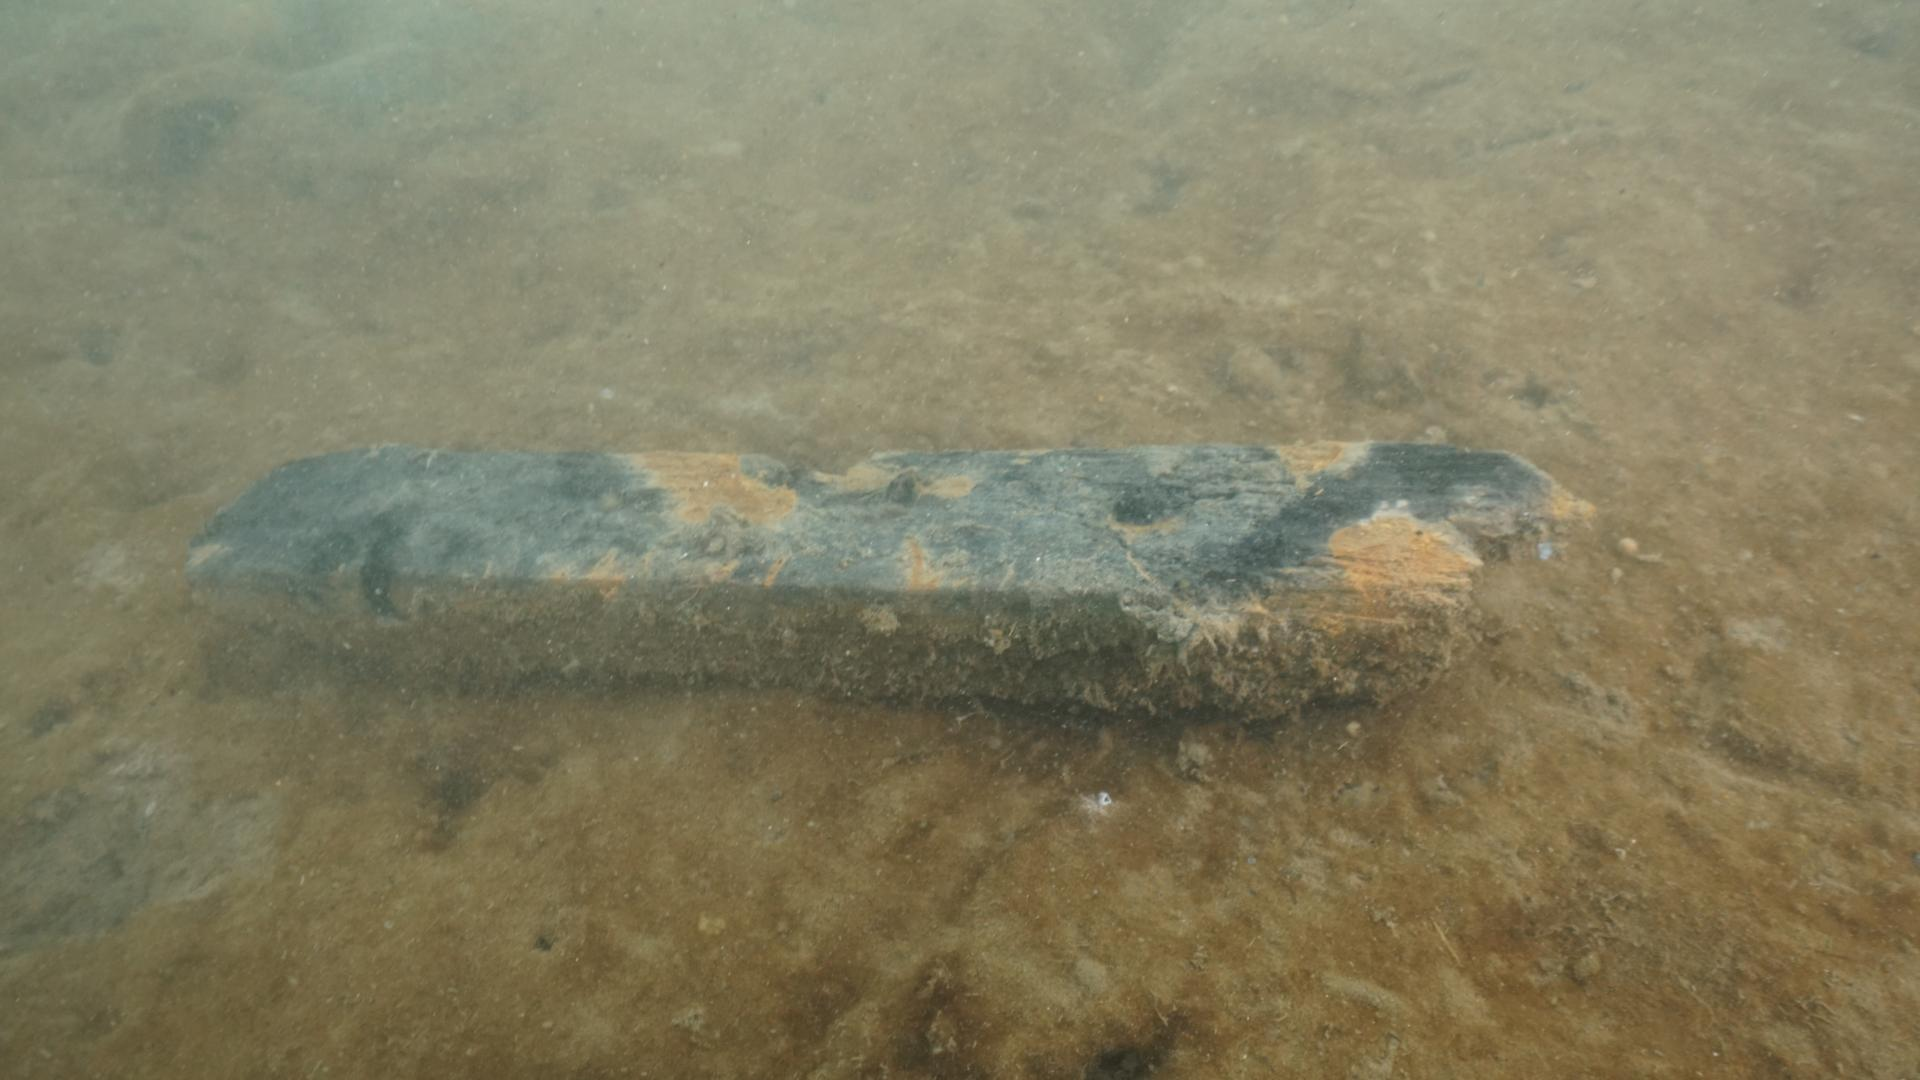wood: (170, 435, 1604, 724)
